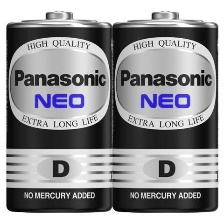battery: (108, 9, 221, 216), (4, 8, 114, 214)
